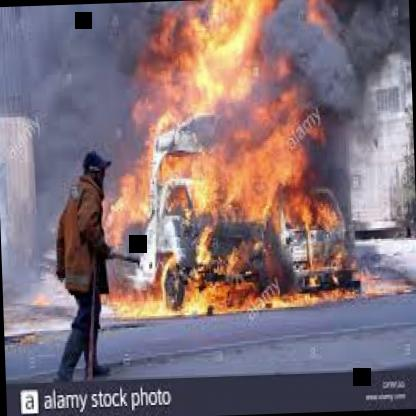fire: (143, 24, 362, 309)
